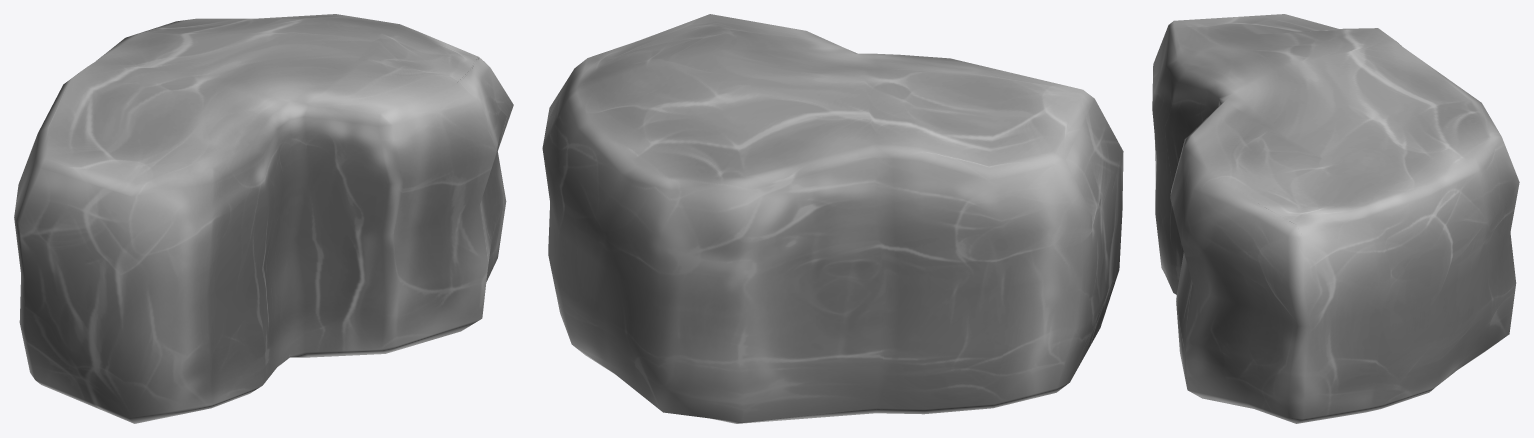
The model's file is roca3.fbx.
3 renders of one model, left to right at view 1: azimuth 30°, elevation 25°; view 2: azimuth 150°, elevation 25°; view 3: azimuth 270°, elevation 25°, orthographic. The views are drawn at different scales.
Visible parts, largest first — view 1: roca3; view 2: roca3; view 3: roca3.
Part boxes in pixels (bbox=[...]): roca3: bbox=[14, 14, 513, 423]; roca3: bbox=[542, 14, 1123, 423]; roca3: bbox=[1152, 14, 1519, 423].
Size of the model in its own units: 13.45 by 7.23 by 9.16.
